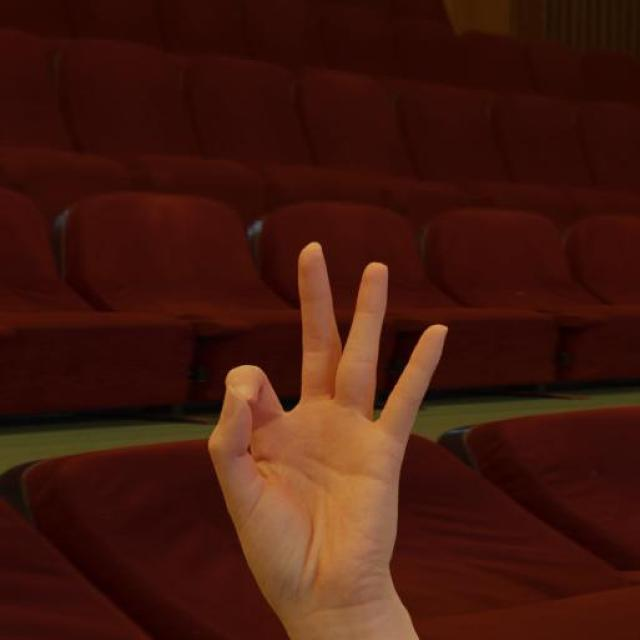F: (206, 239, 450, 610)
